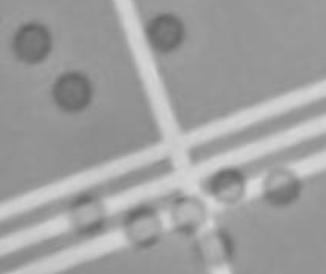cell: (45, 67, 99, 118), (118, 201, 168, 250), (64, 188, 111, 240), (8, 17, 55, 68), (141, 9, 190, 56), (258, 162, 305, 210), (164, 191, 210, 239), (188, 224, 238, 268), (206, 162, 250, 209)
